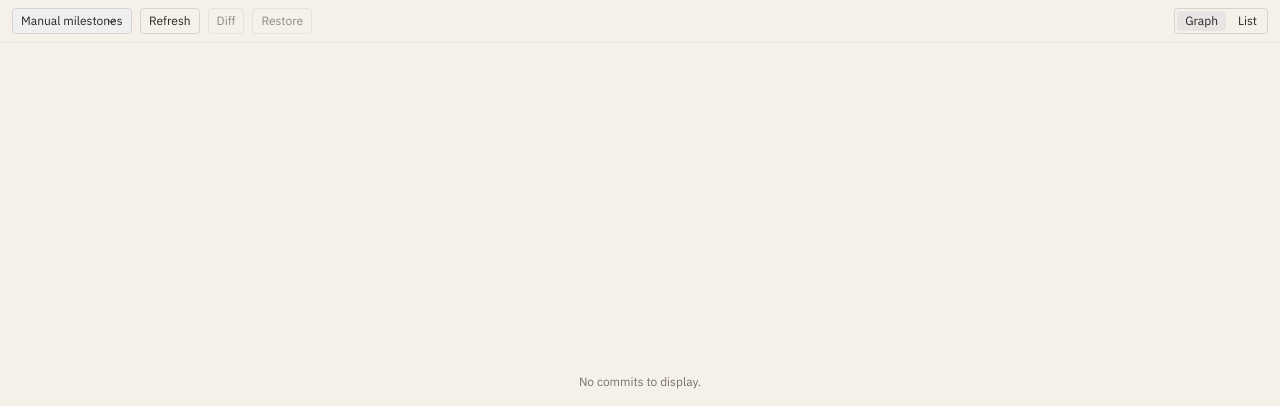
Test: GitHistoryList › renders loading state when logLoading[branch] === true
The image size is (1280, 406).
Click the button with test id "git-history-view-list": (1248, 21) [1230,11,1265,31]
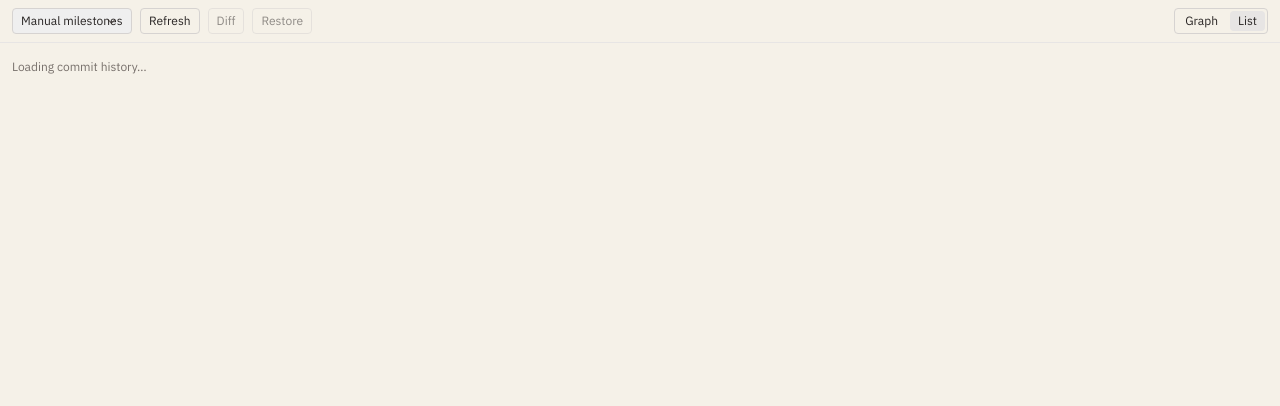
expect the text "Loading commit history…" is shown: met, box [12,59,147,74]
